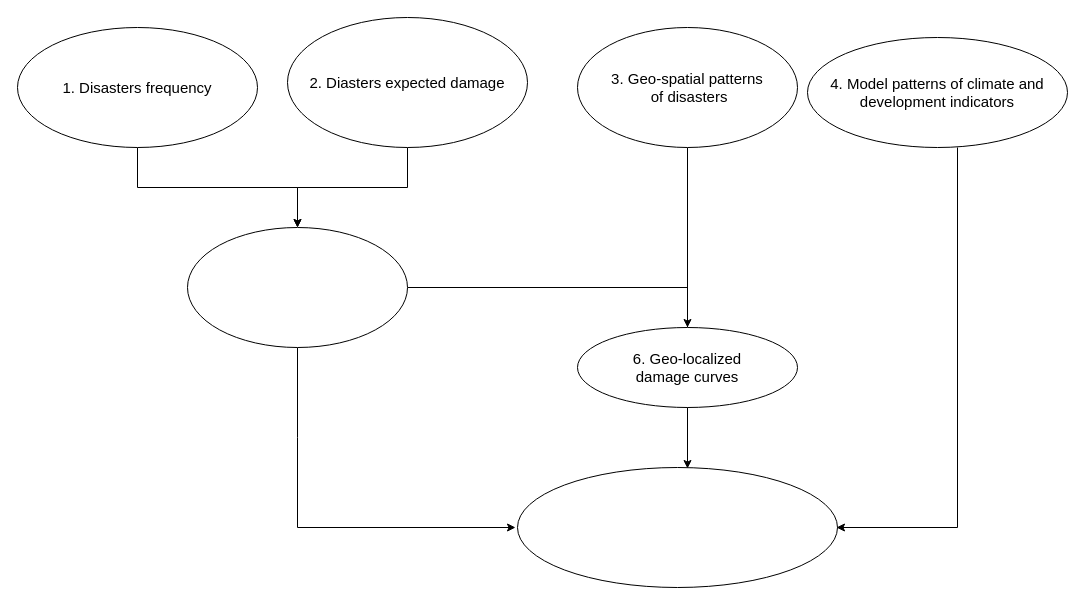
The diagram is 1085 pixels wide and 605 high, and some of its shapes have lost their labels. The shapes that lost their labels are listed below. From the top down, each one's box as (x1, y1, x2, y2) in pixels, then its label:
(186, 226, 408, 348): 5. Country-level damage curves
(516, 466, 838, 588): 7. Assesing future exposure at national and local level
